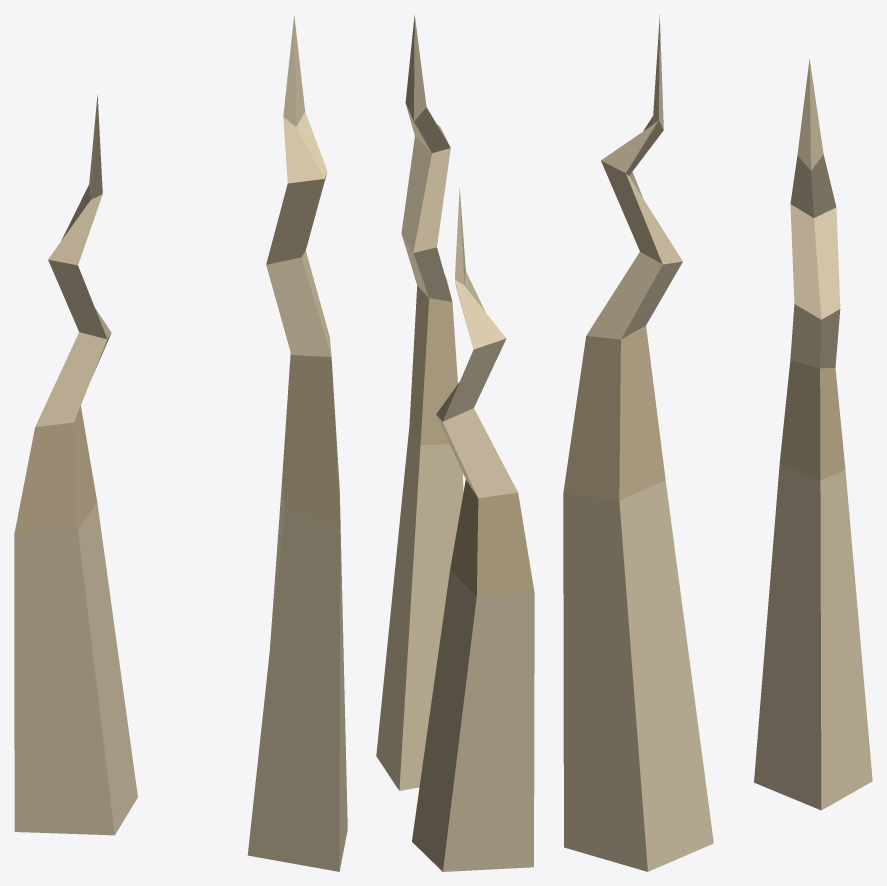
File: EA_M_Env_DryTallGrass_01a_PRE.glb
The picture shows the model from 3 angles, left to right: view 1: azimuth 30°, elevation 25°; view 2: azimuth 150°, elevation 25°; view 3: azimuth 270°, elevation 25°; orthographic projection. The views are drawn at different scales.
Parts seen in each view (by area): view 1: EA_M_Env_DryTallGrass_01a; view 2: EA_M_Env_DryTallGrass_01a; view 3: EA_M_Env_DryTallGrass_01a.
Boxes of the visible parts, <box> form: EA_M_Env_DryTallGrass_01a: <box>14,15,347,871</box>; EA_M_Env_DryTallGrass_01a: <box>376,15,534,871</box>; EA_M_Env_DryTallGrass_01a: <box>563,14,872,871</box>.
Bounding box in the file's own units: 0.1246 × 0.3875 × 0.1302.
1 material, 1 textured.
